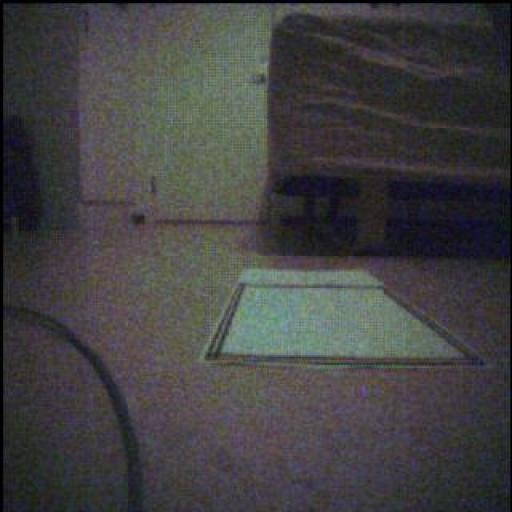pad: (203, 270, 484, 367)
